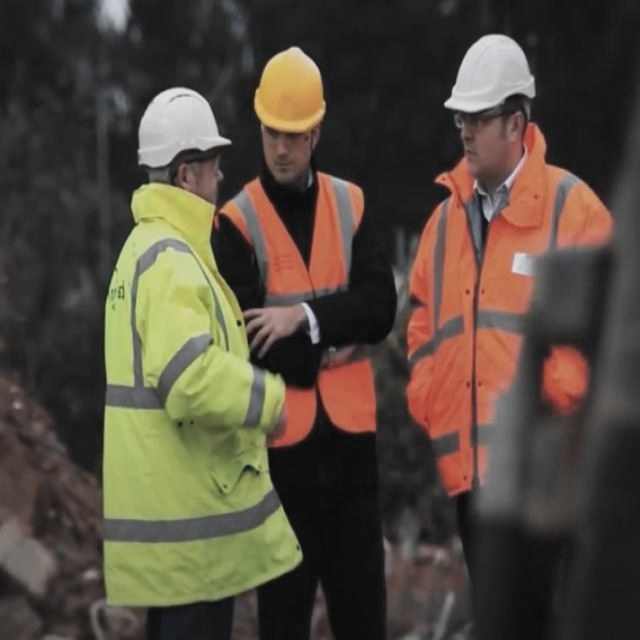Con_Casco: (444, 35, 536, 159), (139, 83, 225, 202)
Con_Chaleco: (97, 215, 262, 597), (403, 161, 598, 483), (222, 180, 374, 430)
